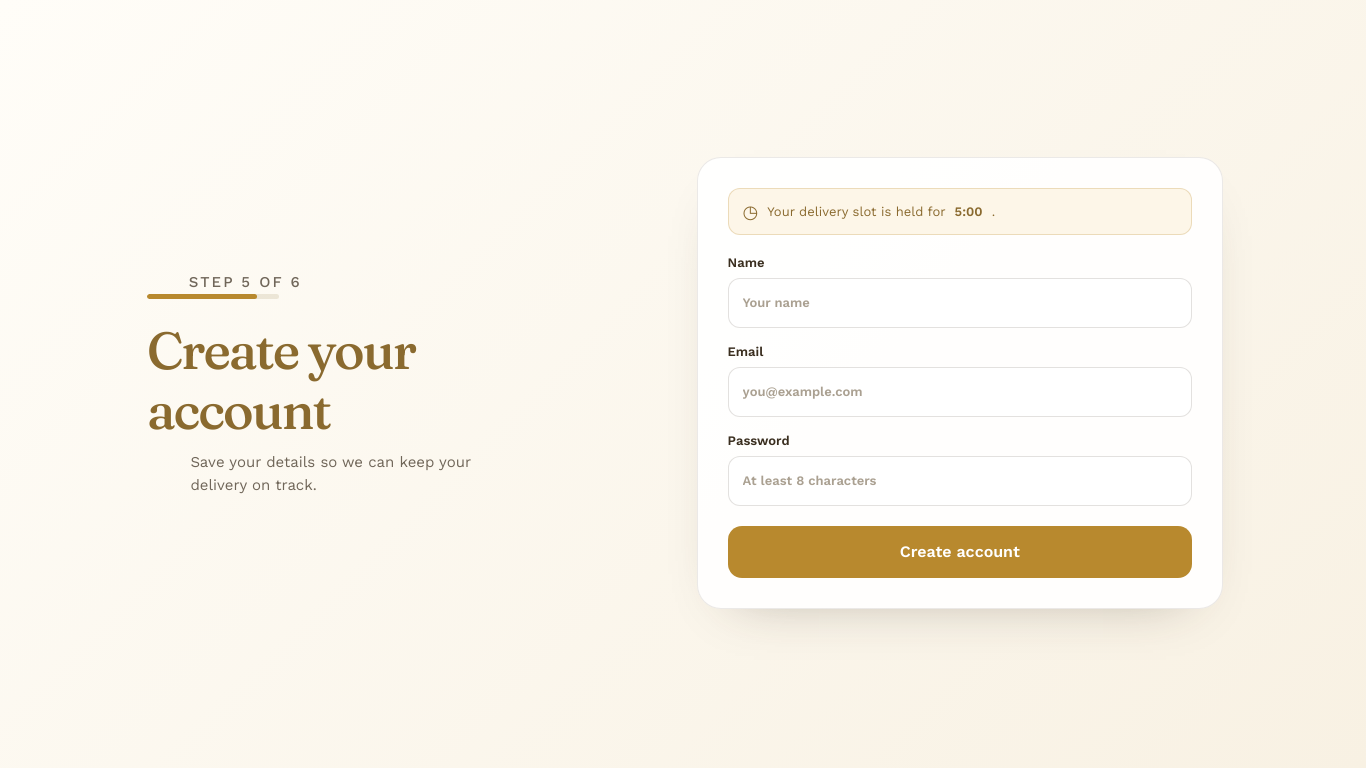
Test case: Account › shows an inline error when the email is already registered
The image size is (1366, 768).
Type "Ada" into the field labelled "Name". click: (960, 303)
box: [728, 278, 1192, 328]
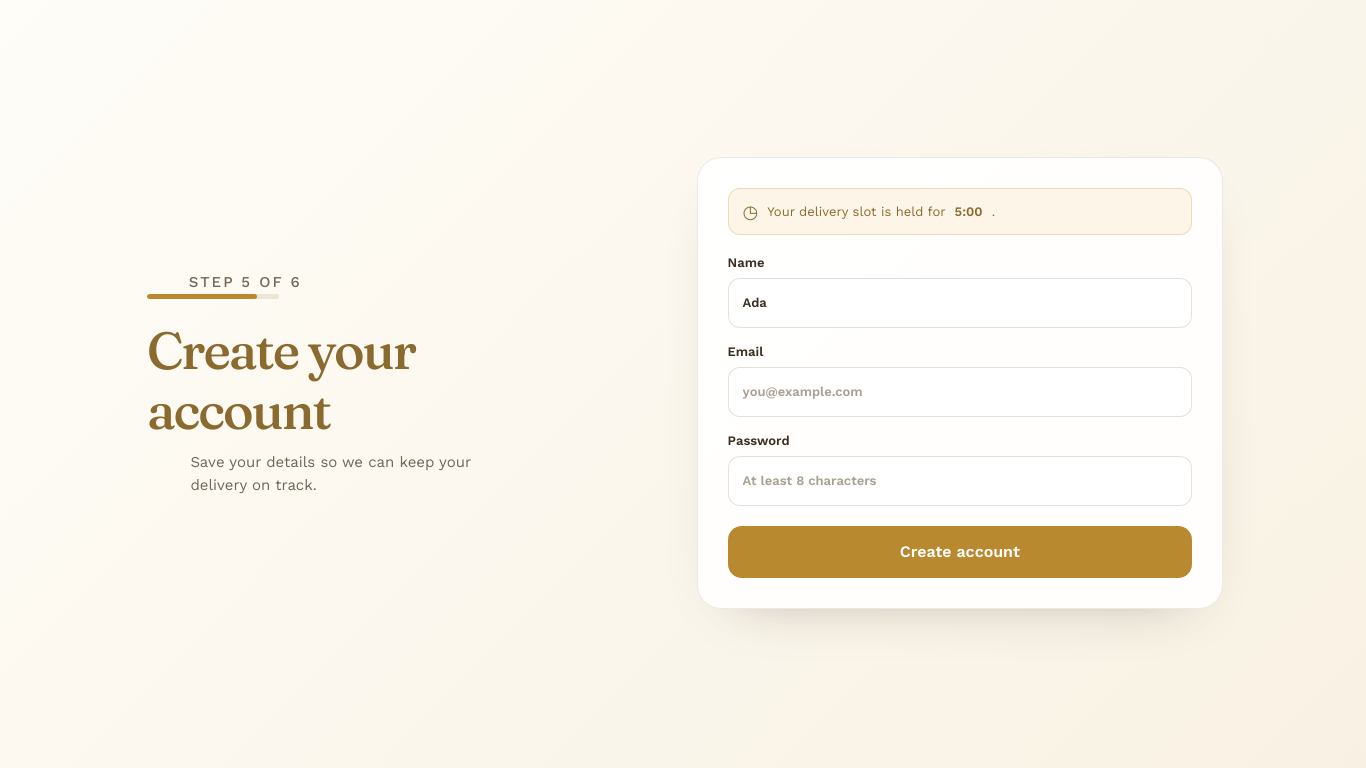
Type "ada@x.co" into the field labelled "Email". click: (960, 392)
box: [728, 367, 1192, 417]
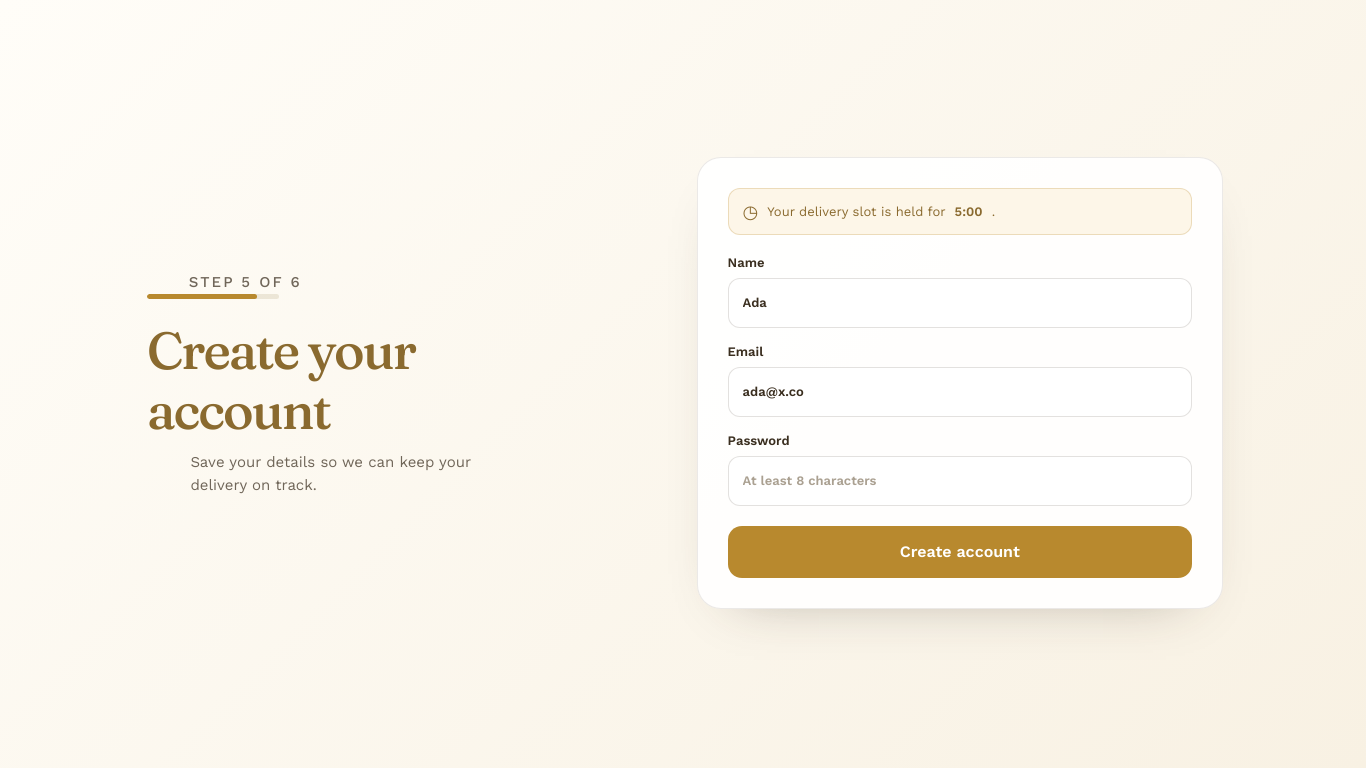
Type "hunter2hunter2" into the password field labelled "Password". click: (960, 481)
box: [728, 456, 1192, 506]
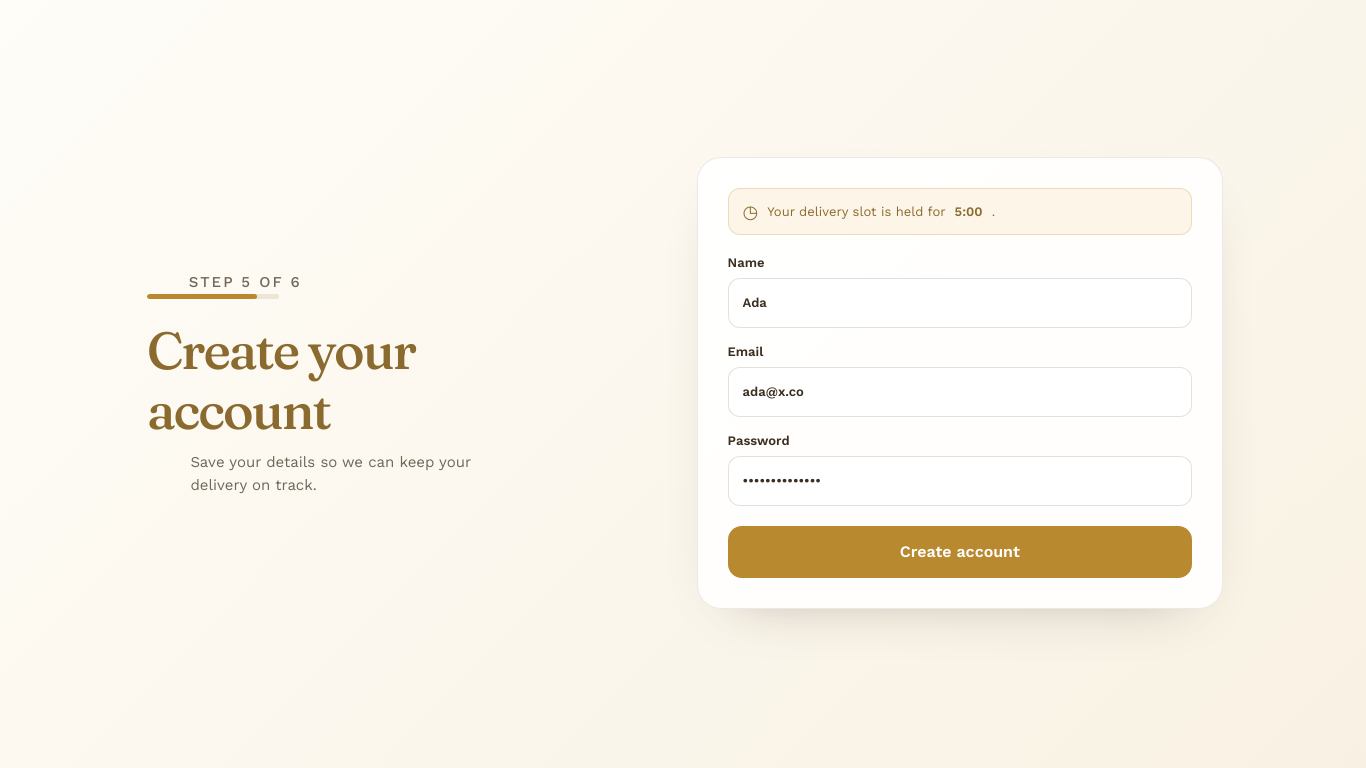
Click the button "Create account". click: (960, 552)
box: [728, 526, 1192, 578]
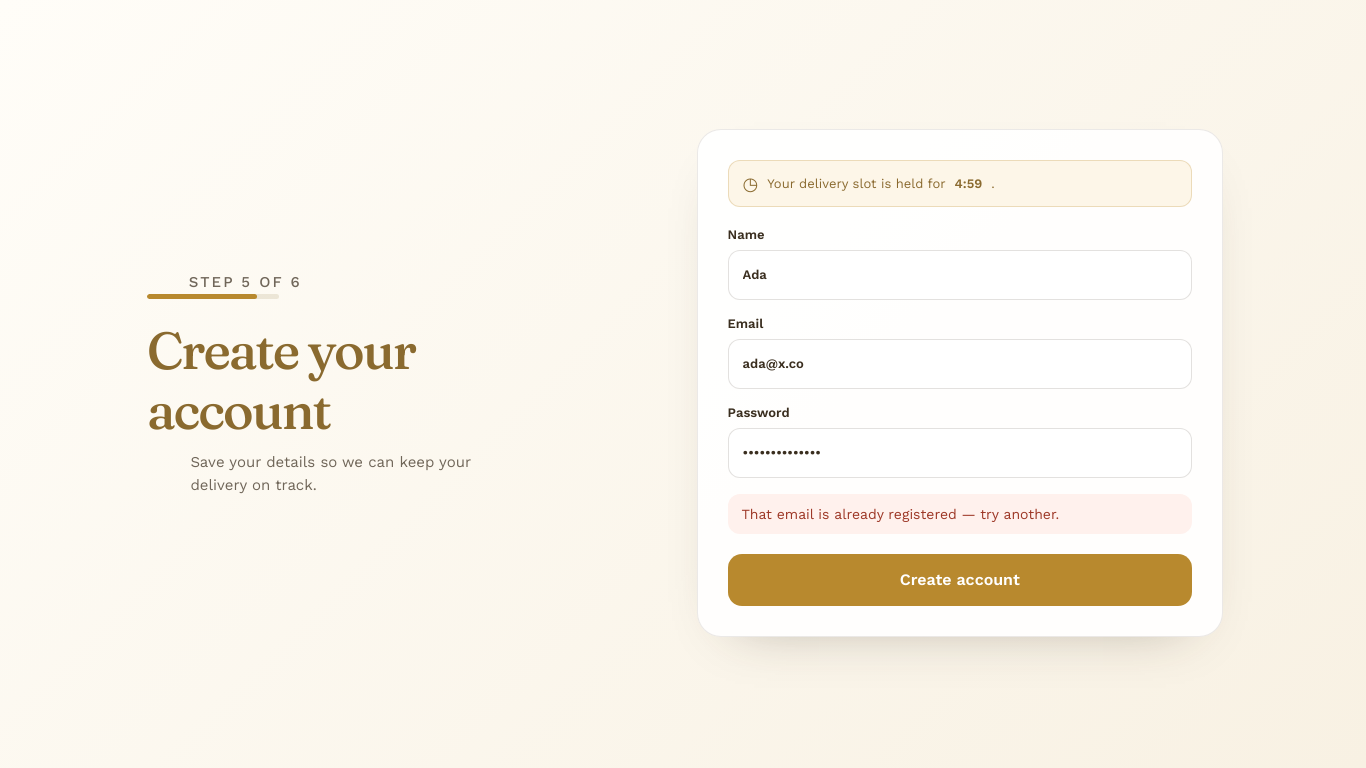
Now the text "That email is already registered — try another." is shown, box [728, 494, 1192, 534]
